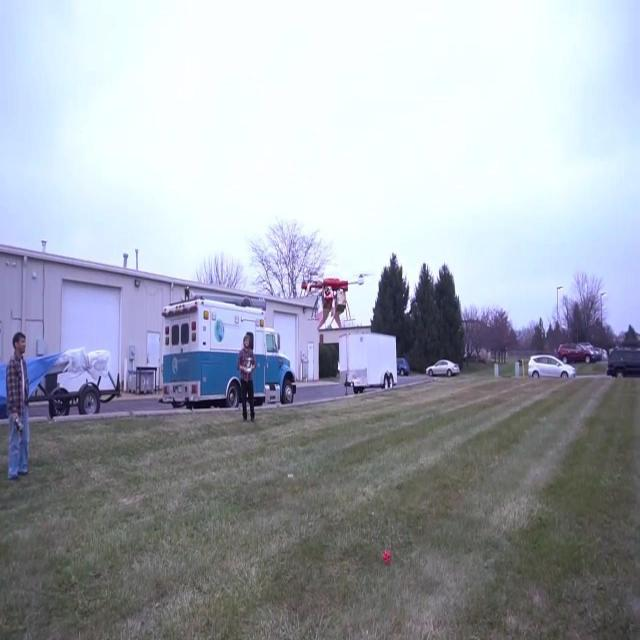drone: (296, 266, 373, 340)
